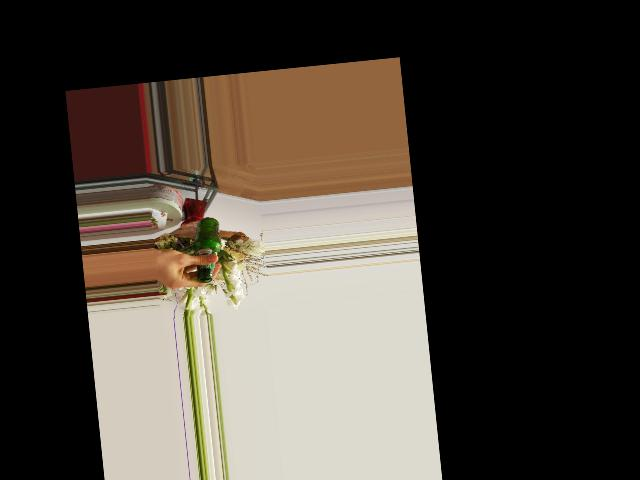beer: (189, 215, 225, 283)
